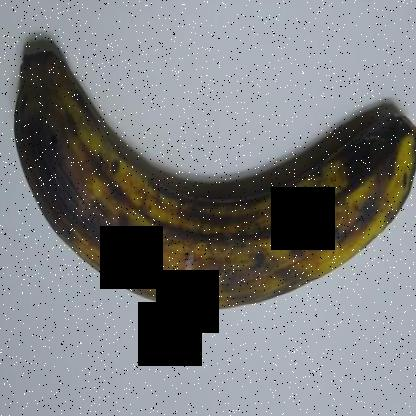overripe: (4, 26, 415, 323)
